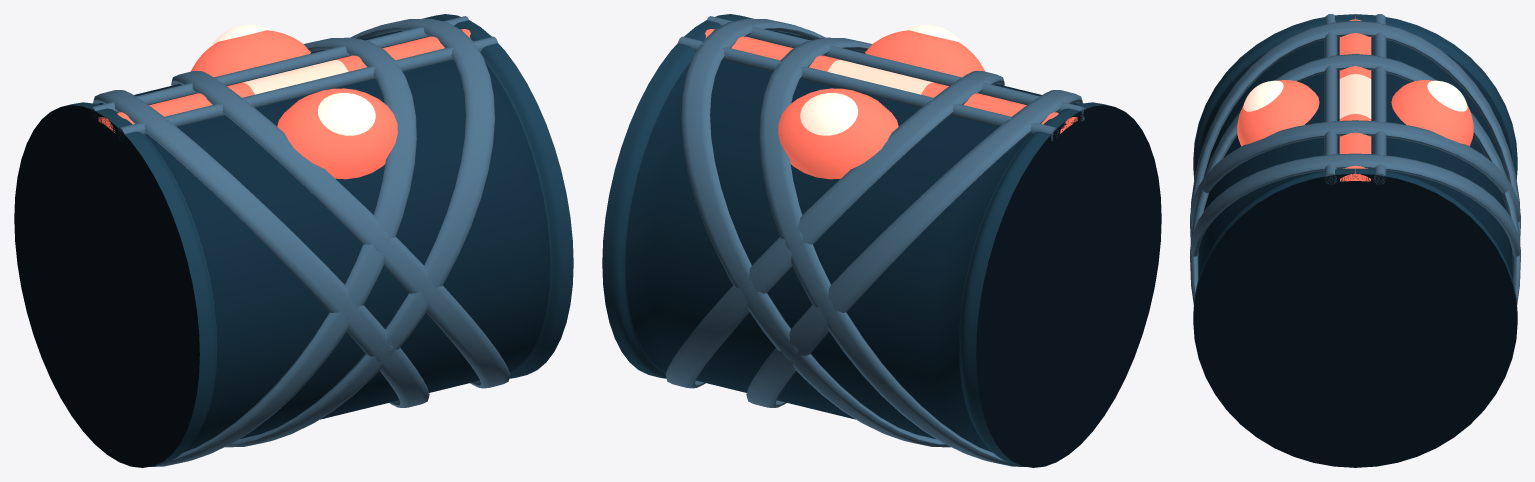
Rendered from maze_pipe_cage_123.glb.
3 renders of one model, left to right at view 1: azimuth 30°, elevation 25°; view 2: azimuth 150°, elevation 25°; view 3: azimuth 270°, elevation 25°, orthographic. The views are drawn at different scales.
Visible parts, largest first — view 1: pipe, hoop3, hoop2, hoop1, hoop0, core-1, band, rail-1, core1, rail1, heart-1; view 2: pipe, hoop3, hoop1, hoop2, hoop0, core1, band, rail1, core-1, rail-1, heart1; view 3: pipe, hoop2, hoop3, hoop1, hoop0, band, core-1, core1, rail1, rail-1, heart1, heart-1.
Part boxes in pixels (x1,y1,x2,y2): pipe: (14, 14, 573, 467); hoop3: (225, 18, 494, 447); hoop2: (93, 90, 429, 407); hoop1: (150, 37, 416, 466); hoop0: (171, 71, 510, 388); core-1: (277, 88, 397, 179); band: (98, 29, 470, 133); rail-1: (118, 36, 497, 140); core1: (191, 30, 310, 77); rail1: (90, 16, 468, 118); heart-1: (318, 93, 375, 135); pipe: (602, 14, 1161, 467); hoop3: (681, 18, 950, 447); hoop1: (759, 37, 1025, 466); hoop2: (746, 90, 1082, 407); hoop0: (665, 71, 1004, 388); core1: (778, 88, 898, 179); band: (705, 29, 1077, 133); rail1: (678, 36, 1058, 140); core-1: (865, 30, 984, 77); rail-1: (707, 16, 1085, 121); heart1: (800, 93, 857, 135); pipe: (1193, 14, 1517, 467); hoop2: (1190, 20, 1520, 242); hoop3: (1190, 153, 1520, 261); hoop1: (1190, 120, 1520, 225); hoop0: (1190, 54, 1520, 467); band: (1339, 14, 1371, 181); core-1: (1237, 80, 1319, 146); core1: (1391, 80, 1473, 146); rail1: (1373, 14, 1386, 184); rail-1: (1324, 14, 1337, 184); heart1: (1427, 80, 1467, 111); heart-1: (1243, 80, 1283, 111).
Bounding box in the file's own units: 24 × 21.46 × 21.02.
